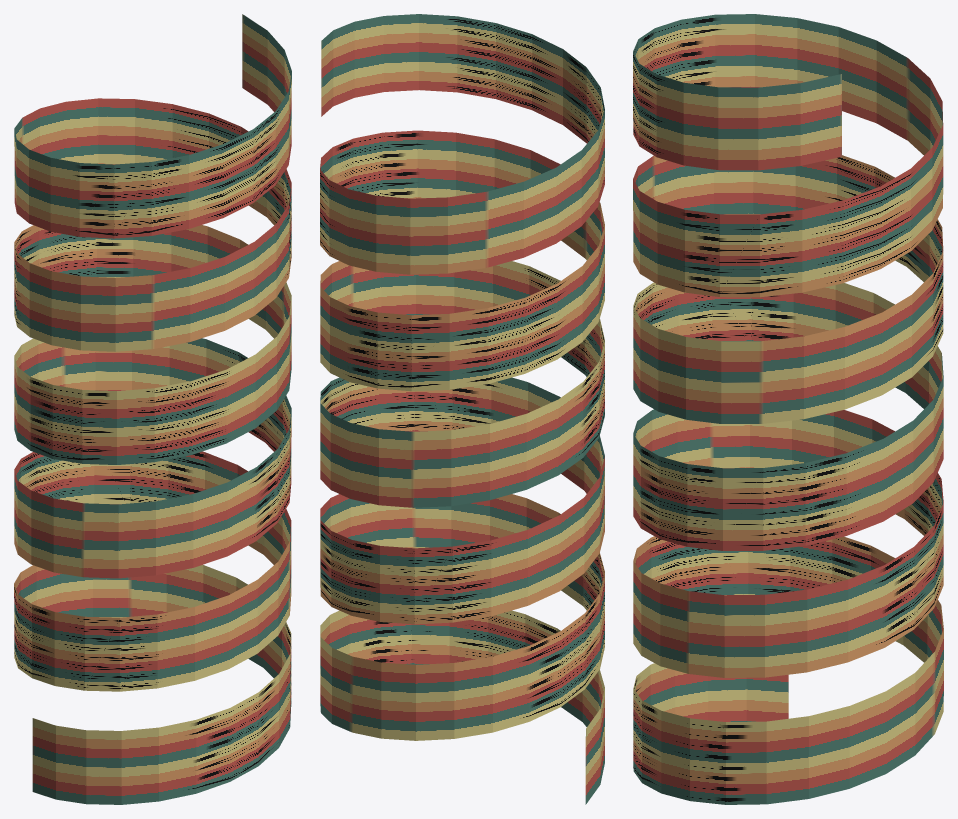
File: spiral.fbx
The picture shows the model from 3 angles, left to right: view 1: azimuth 30°, elevation 25°; view 2: azimuth 150°, elevation 25°; view 3: azimuth 270°, elevation 25°; orthographic projection. The views are drawn at different scales.
Visible parts, largest first — view 1: NurbsPath; view 2: NurbsPath; view 3: NurbsPath.
Boxes of the visible parts, box(x1,y1,x2,y2) form: NurbsPath: box(14, 14, 291, 804); NurbsPath: box(320, 14, 604, 804); NurbsPath: box(633, 14, 943, 804).
Size of the model in its own units: 200 by 559 by 200.
